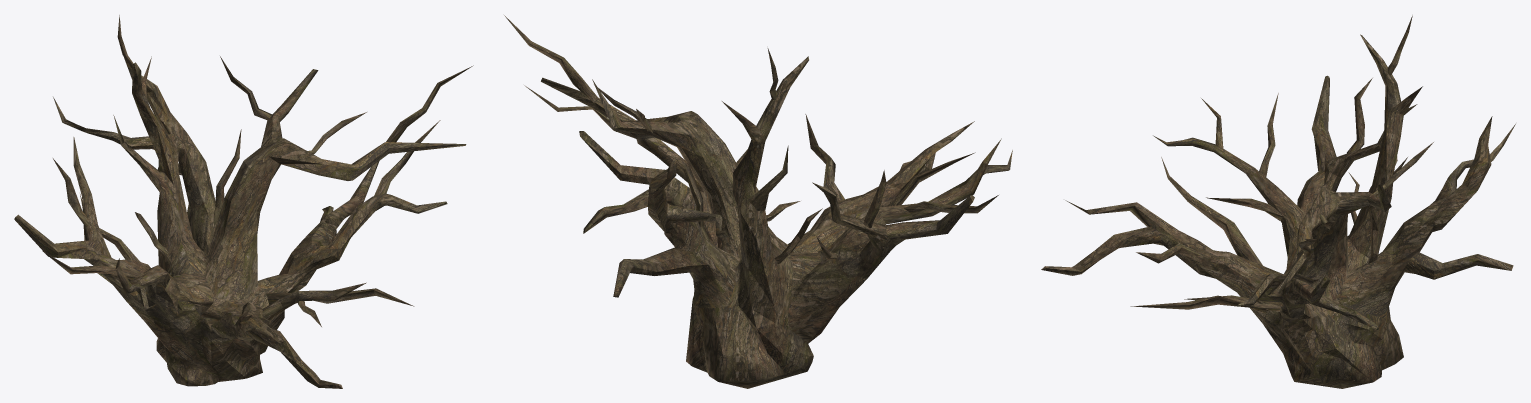
Rendered from bg_anh_foliage_bush01_sm_ysi.FBX.
3 renders of one model, left to right at view 1: azimuth 30°, elevation 25°; view 2: azimuth 150°, elevation 25°; view 3: azimuth 270°, elevation 25°, orthographic. The views are drawn at different scales.
Visible parts, largest first — view 1: bg_anh_foliage_bush01_sm_ysi; view 2: bg_anh_foliage_bush01_sm_ysi; view 3: bg_anh_foliage_bush01_sm_ysi.
Part boxes in pixels (bbox=[...]): bg_anh_foliage_bush01_sm_ysi: bbox=[14, 15, 473, 388]; bg_anh_foliage_bush01_sm_ysi: bbox=[504, 15, 1012, 388]; bg_anh_foliage_bush01_sm_ysi: bbox=[1041, 15, 1515, 388].
Size of the model in its own units: 335 by 254 by 314.
